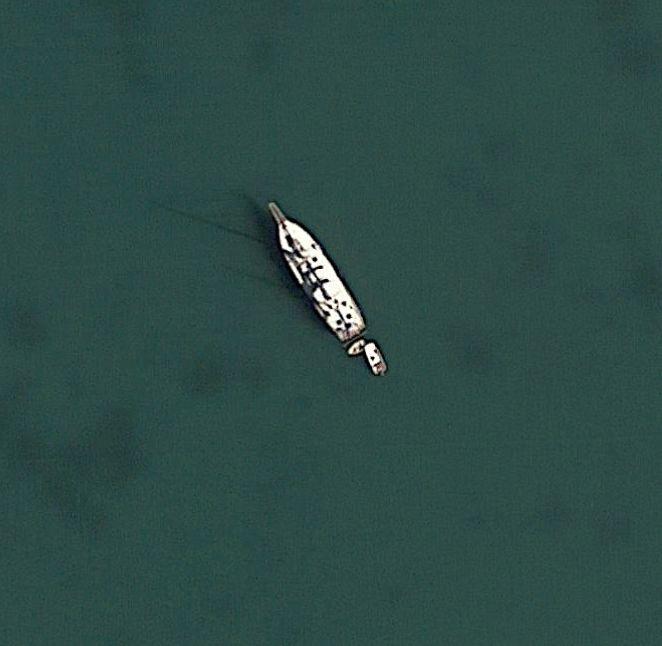boat: (264, 195, 386, 377)
